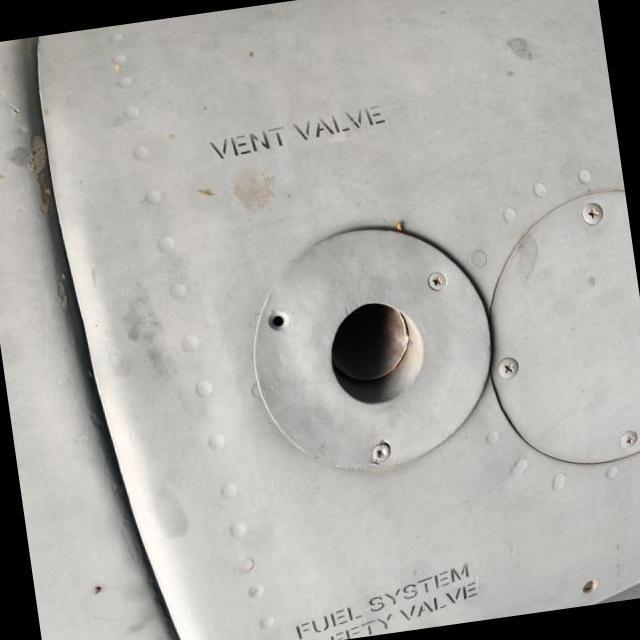Missing Fastener: (268, 313, 288, 332)
